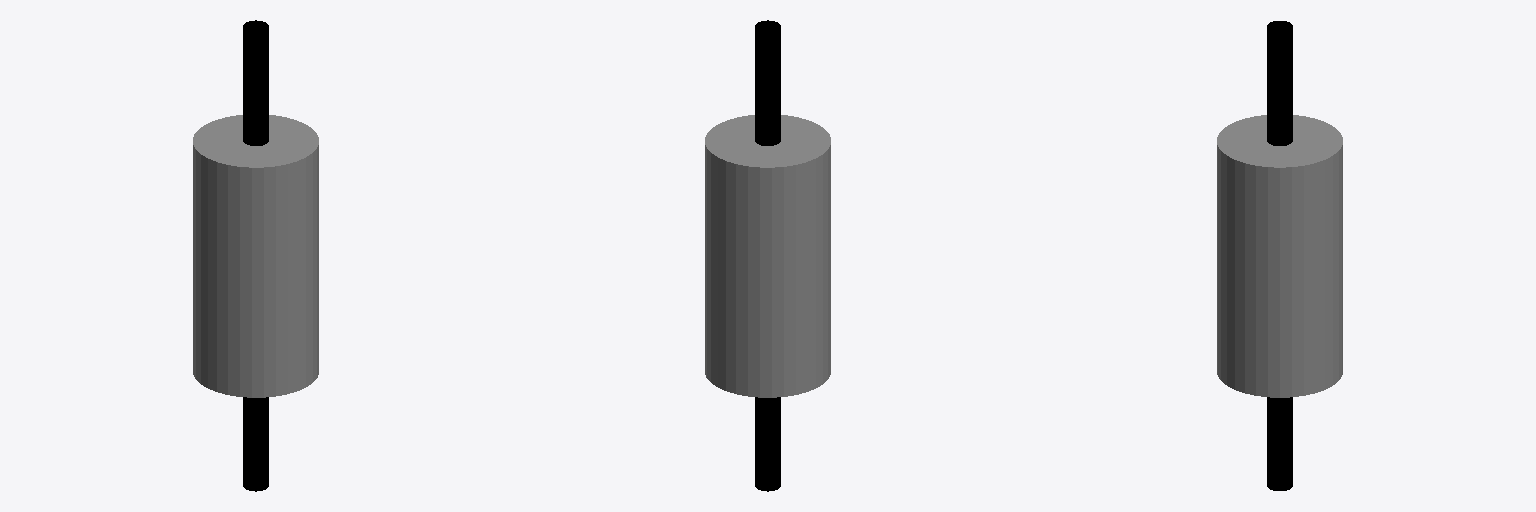
URDF robot description (FourDOF):
<?xml version="1.0"?>

<robot name="FourDOF">
  
  <!-- *************************************************** -->
  <!-- ******************** Kinematics ******************* -->
  <!-- *************************************************** -->
  <!-- Note the 'origin' tag in the joints defines the shift and
       reorientation, i.e. the transform.  For moving joints, this
       happens before the continuous joint rotates around 'axis'. -->

  <link name="world">
  </link>

  <joint name="prime0" type="fixed">
    <parent link="world"/>
    <child  link="prime0"/>
    <origin xyz="0 0 0.2" rpy="0 0 0"/>
  </joint>

  <link name="prime0">
  </link>

  <joint name="theta1" type="continuous">
    <parent link="prime0"/>
    <child  link="link1"/>
    <origin xyz="0 0 0" rpy="0 0 0"/>
    <axis   xyz="0 0 1"/>
  </joint>

  <link name="link1">
  </link>

  <joint name="prime1" type="fixed">
    <parent link="link1"/>
    <child  link="prime1"/>
    <origin xyz="0 0.2 0.2" rpy="0 0 0"/>
  </joint>

  <link name="prime1">
  </link>

  <joint name="theta2" type="continuous">
    <parent link="prime1"/>
    <child  link="link2"/>
    <origin xyz="0 0 0" rpy="0 0 0"/>
    <axis   xyz="0 1 0"/>
  </joint>

  <link name="link2">
  </link>

  <joint name="prime2" type="fixed">
    <parent link="link2"/>
    <child  link="prime2"/>
    <origin xyz="0 0.2 -0.2" rpy="0 0 0"/>
  </joint>

  <link name="prime2">
  </link>

  <joint name="theta3" type="continuous">
    <parent link="prime2"/>
    <child  link="link3"/>
    <origin xyz="0 0 0" rpy="0 0 0"/>
    <axis   xyz="0 0 -1"/>
  </joint>

  <link name="link3">
  </link>

  <joint name="prime3" type="fixed">
    <parent link="link3"/>
    <child  link="prime3"/>
    <origin xyz="0 0.2 -0.2" rpy="0 0 0"/>
  </joint>

  <link name="prime3">
  </link>

  <joint name="theta4" type="continuous">
    <parent link="prime3"/>
    <child  link="link4"/>
    <origin xyz="0 0 0" rpy="0 0 0"/>
    <axis   xyz="0 1 0"/>
  </joint>

  <link name="link4">
  </link>

  <joint name="final" type="fixed">
    <parent link="link4"/>
    <child  link="tip"/>
    <origin xyz="0 0.2 0" rpy="0 0 0"/>
  </joint>

  <link name="tip">
  </link>


  <!-- *************************************************** -->
  <!-- ******************* RVIZ Colors ******************* -->
  <!-- *************************************************** -->

  <material name="white">    <color rgba="1.00 1.00 1.00 1"/>  </material>
  <material name="gray">     <color rgba="0.60 0.60 0.60 1"/>  </material>
  <material name="table">    <color rgba="0.85 0.77 0.77 1"/>  </material>
  <material name="black">    <color rgba="0.00 0.00 0.00 1"/>  </material>

  <material name="red">      <color rgba="1.00 0.00 0.00 1"/>  </material>
  <material name="green">    <color rgba="0.00 1.00 0.00 1"/>  </material>
  <material name="blue">     <color rgba="0.00 0.00 1.00 1"/>  </material>

  <material name="cyan">     <color rgba="0.00 1.00 1.00 1"/>  </material>
  <material name="magenta">  <color rgba="1.00 0.00 1.00 1"/>  </material>
  <material name="yellow">   <color rgba="1.00 1.00 0.00 1"/>  </material>

  <material name="orange">   <color rgba="1.00 0.65 0.00 1"/>  </material>


  <!-- *************************************************** -->
  <!-- ************* Visual Building Blocks ************** -->
  <!-- *************************************************** -->

  <!-- THESE ARE EXAMPLES... PLAY AS YOU LIKE -->

  <!-- *** Attach a visual of motor 1 to prime0 frame (link) *** -->

  <joint name="attach-motor1" type="fixed">
    <parent link="prime0"/>
    <child  link="motor1"/>
  </joint>
  <link name="motor1">
    <visual>
      <origin xyz="0 0 0.2" rpy="0 0 0"/>
      <geometry>
	<cylinder length="0.2" radius="0.05"/>
      </geometry>
      <material name="gray"/>
    </visual>
  </link>

  <!-- *** Attach a visual of a rod to prime2 *** -->

  <joint name="attach-rod1" type="fixed">
    <parent link="prime0"/>
    <child  link="rod1"/>
  </joint>
  <link name="rod1">
    <visual>
      <origin xyz="0 0 0.2" rpy="0 0 0"/>
      <geometry>
	<cylinder length="0.4" radius="0.01"/>
      </geometry>
      <material name="black"/>
    </visual>
  </link>

</robot>

--- Facts derived from the render (not from the file) ---
Views: 3 orthographic renders of the robot side by side, from view 1: azimuth 30°, elevation 25°; view 2: azimuth 150°, elevation 25°; view 3: azimuth 270°, elevation 25°.
Model FourDOF with 12 links and 11 joints (4 continuous, 7 fixed), rooted at world, posed every joint at zero.
Visible links, largest first — view 1: motor1, rod1; view 2: motor1, rod1; view 3: motor1, rod1.
Link boxes in pixels (x1,y1,x2,y2): motor1: (193, 115, 318, 397); rod1: (243, 20, 268, 491); motor1: (705, 115, 830, 397); rod1: (755, 20, 780, 491); motor1: (1217, 115, 1342, 397); rod1: (1267, 21, 1292, 490).
Size in the robot's own frame: 0.1 by 0.1 by 0.4 metres.
Geometry: primitives only (box / cylinder / sphere), no mesh files.